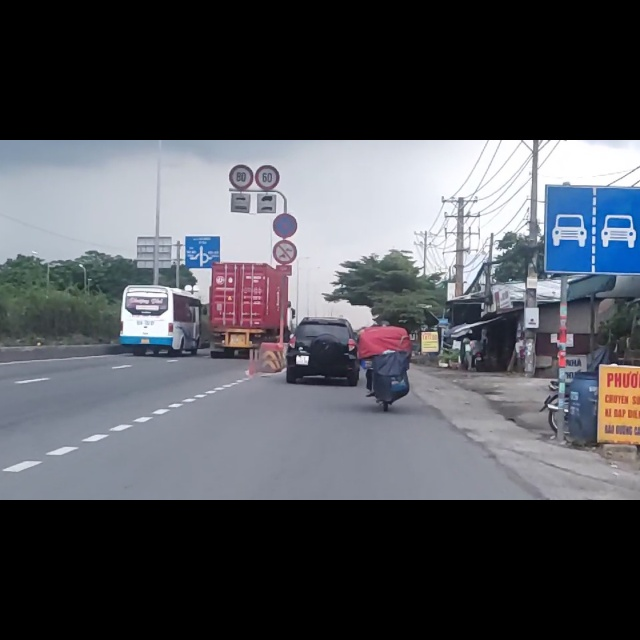bien_cam: (544, 77, 631, 243), (272, 175, 297, 222), (255, 44, 281, 89), (228, 43, 253, 89), (272, 129, 298, 173)
